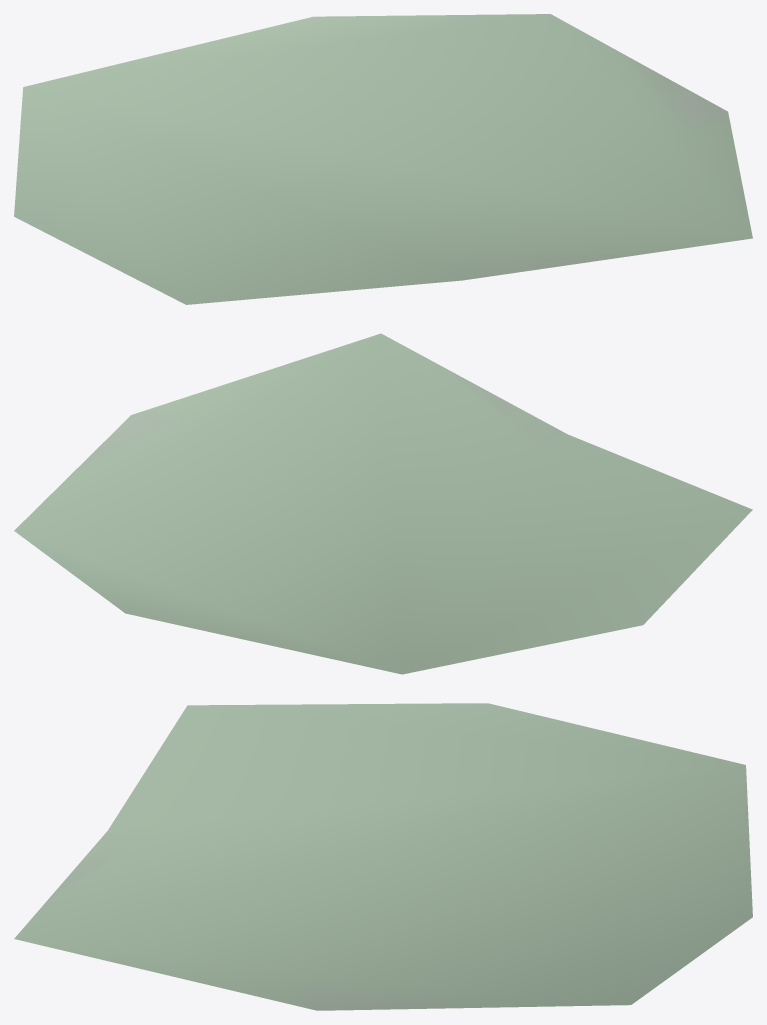
File: TROLLHOLE02_HOLECAP32.fbx
The picture shows the model from 3 angles, top to bottom: view 1: azimuth 30°, elevation 25°; view 2: azimuth 150°, elevation 25°; view 3: azimuth 270°, elevation 25°; orthographic projection. The views are drawn at different scales.
Parts seen in each view (by area): view 1: TROLLHOLE02_HOLECAP32; view 2: TROLLHOLE02_HOLECAP32; view 3: TROLLHOLE02_HOLECAP32.
Boxes of the visible parts, bbox=[...] form: TROLLHOLE02_HOLECAP32: bbox=[14, 14, 752, 304]; TROLLHOLE02_HOLECAP32: bbox=[14, 333, 752, 674]; TROLLHOLE02_HOLECAP32: bbox=[14, 703, 752, 1010].
Size of the model in its own units: 23019 by 738 by 22522.
Materials: 1 (1 with a texture image).
